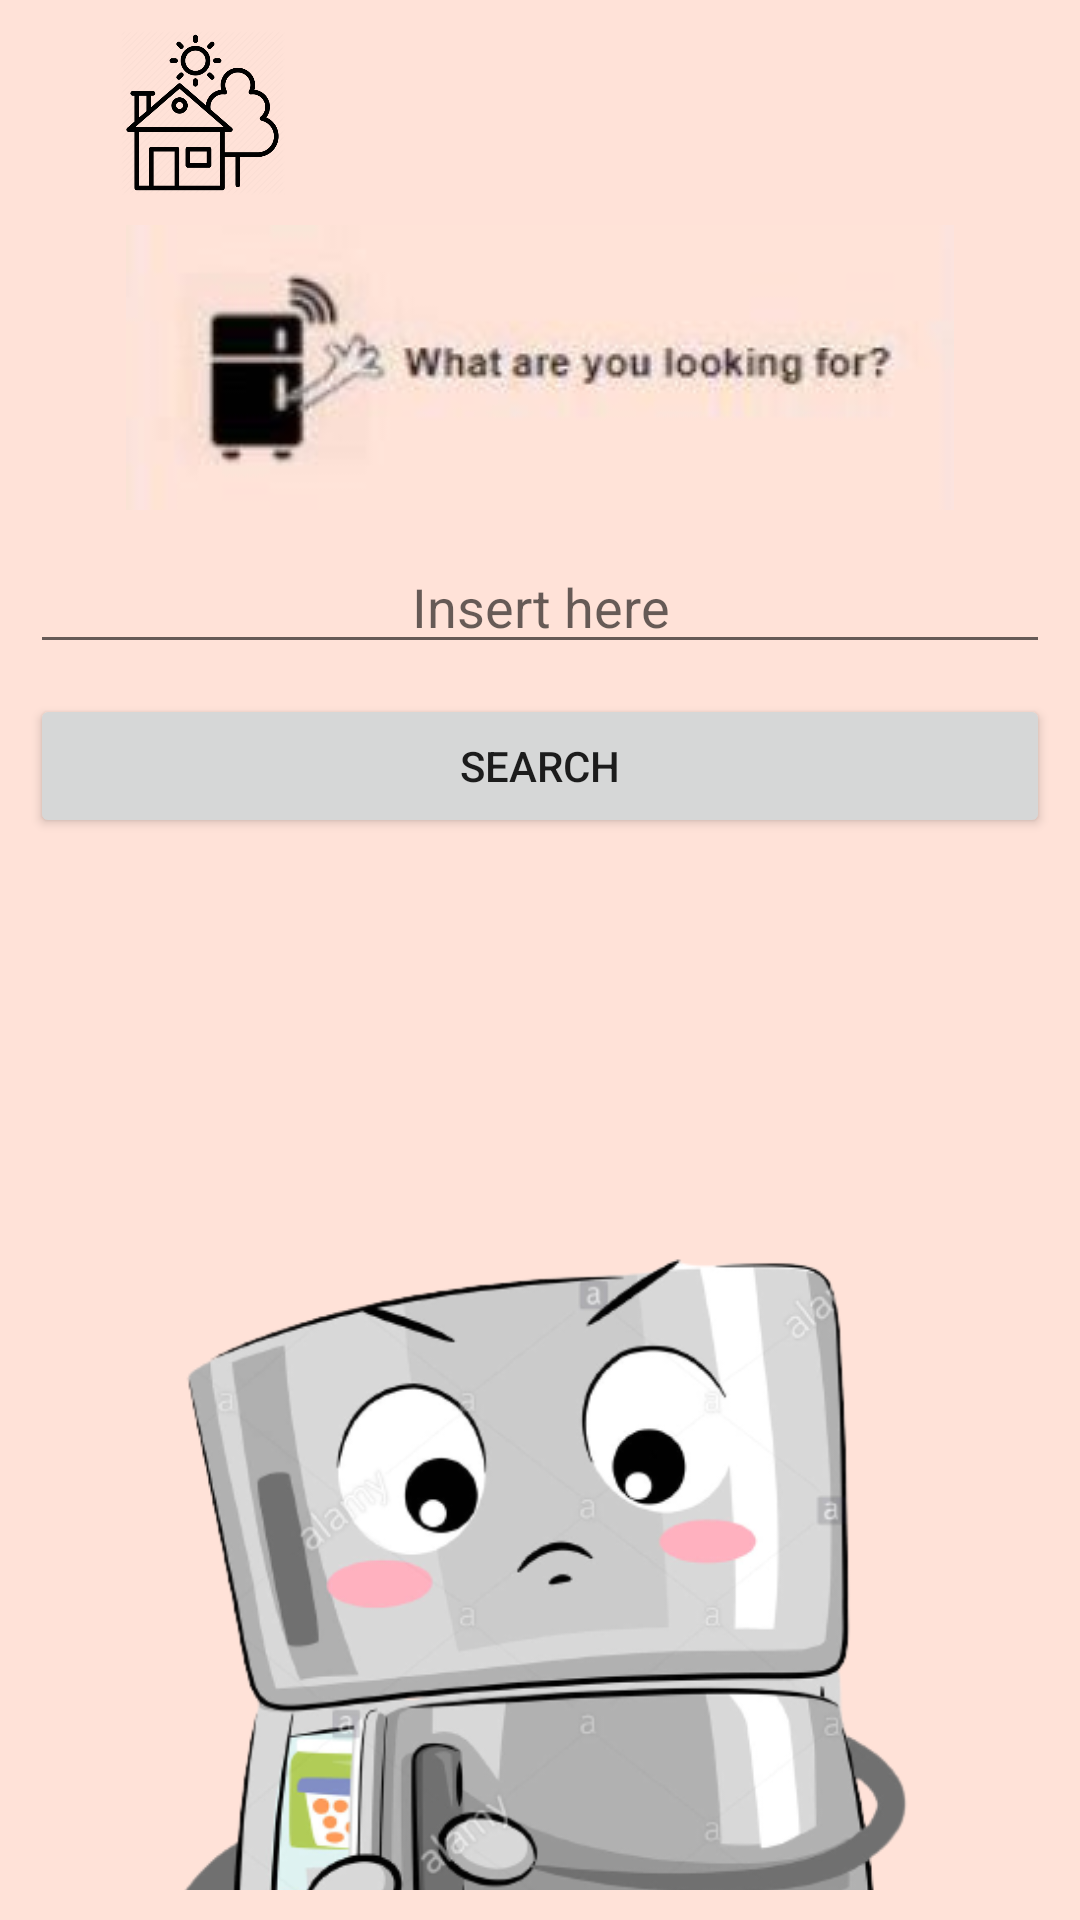

Icons on this 1080w x 1920h Android screen, each with its box as box(x1, y1, x2, y2):
house: box(126, 34, 279, 191)
